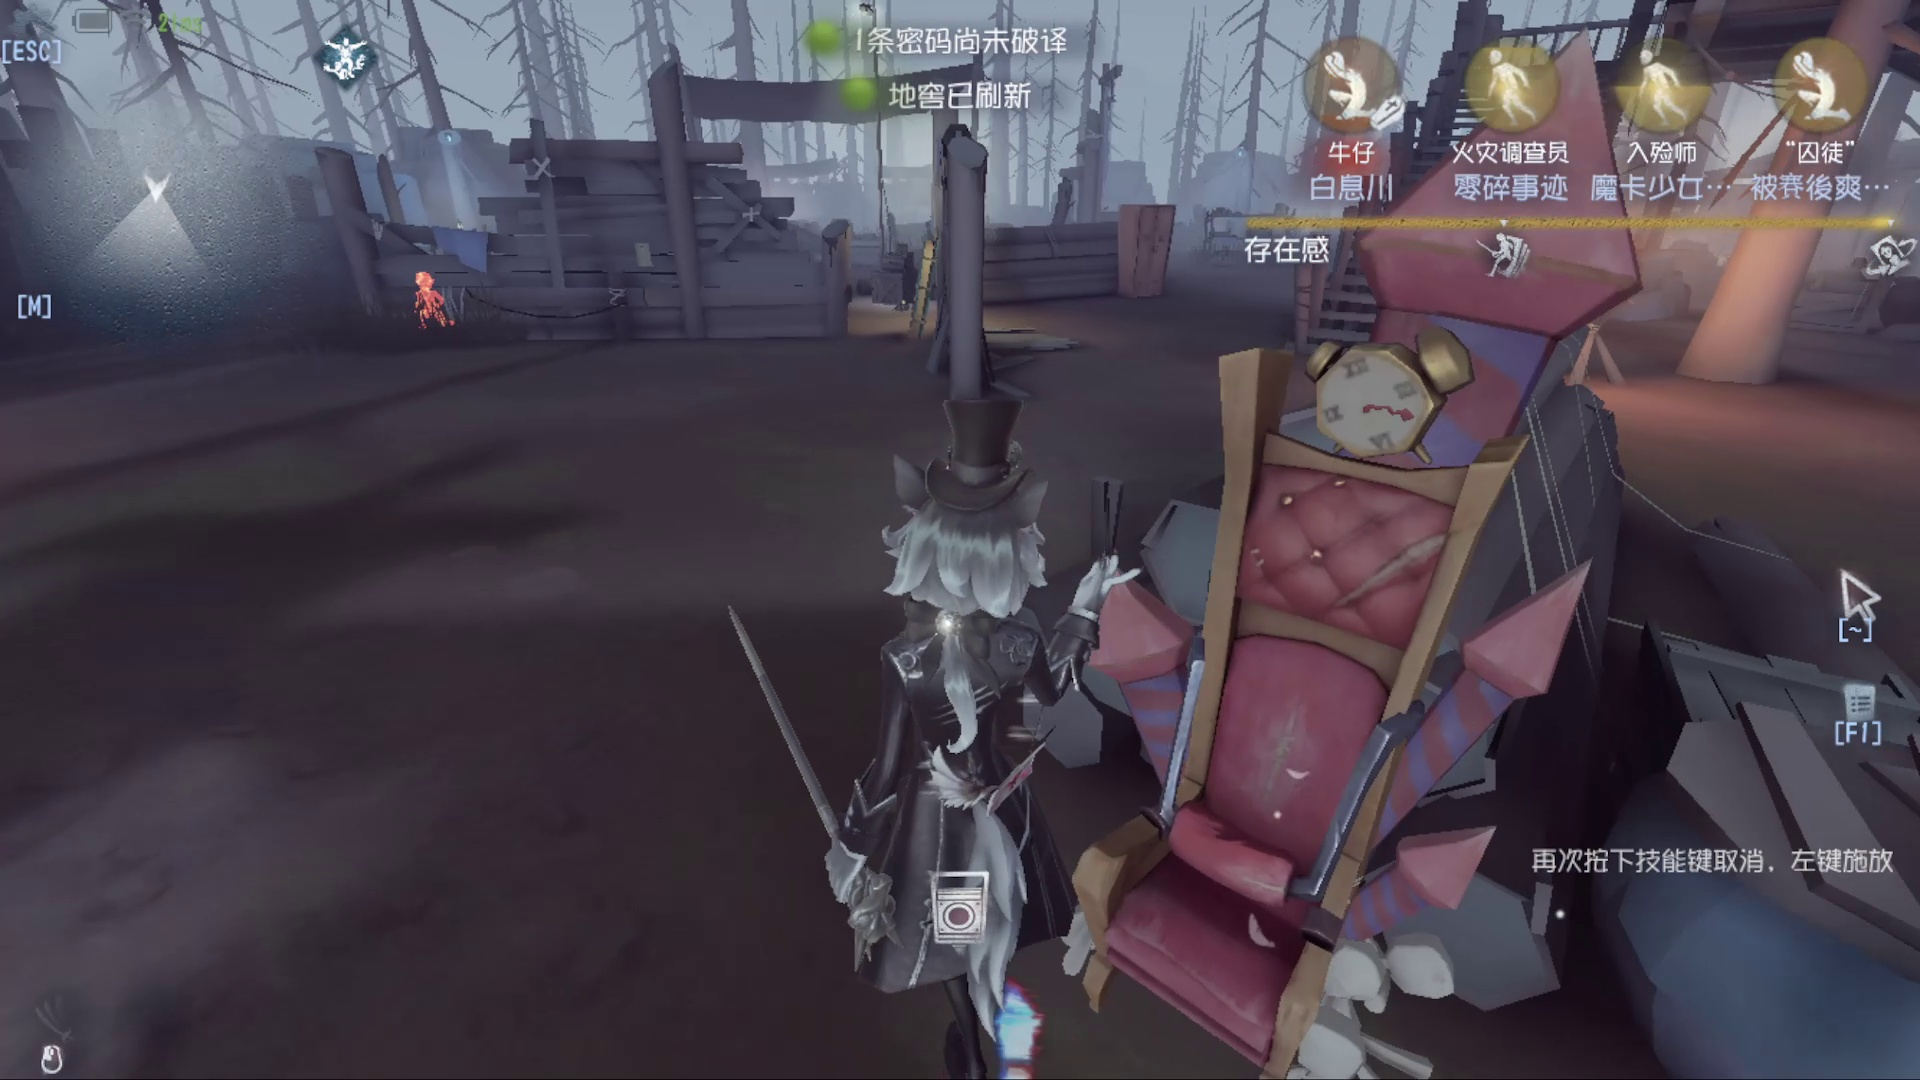木板: (886, 216, 943, 330)
求生者: (386, 258, 442, 332)
狂欢之椅: (1127, 170, 1588, 1051)
